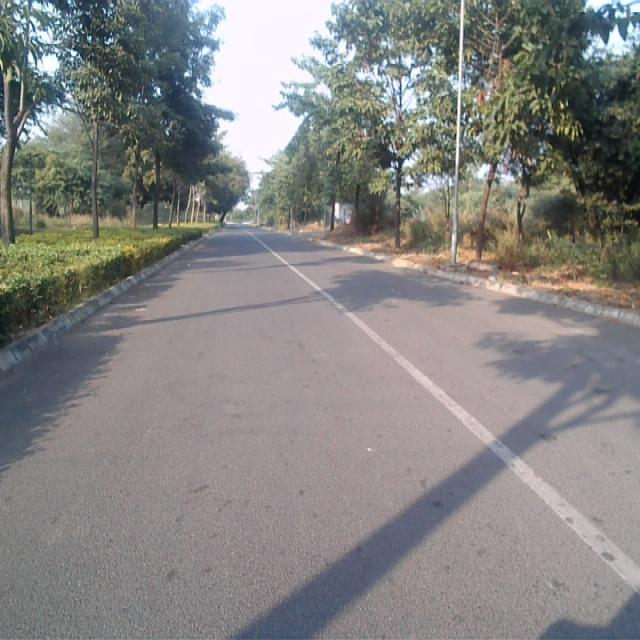lane: (0, 229, 640, 640)
